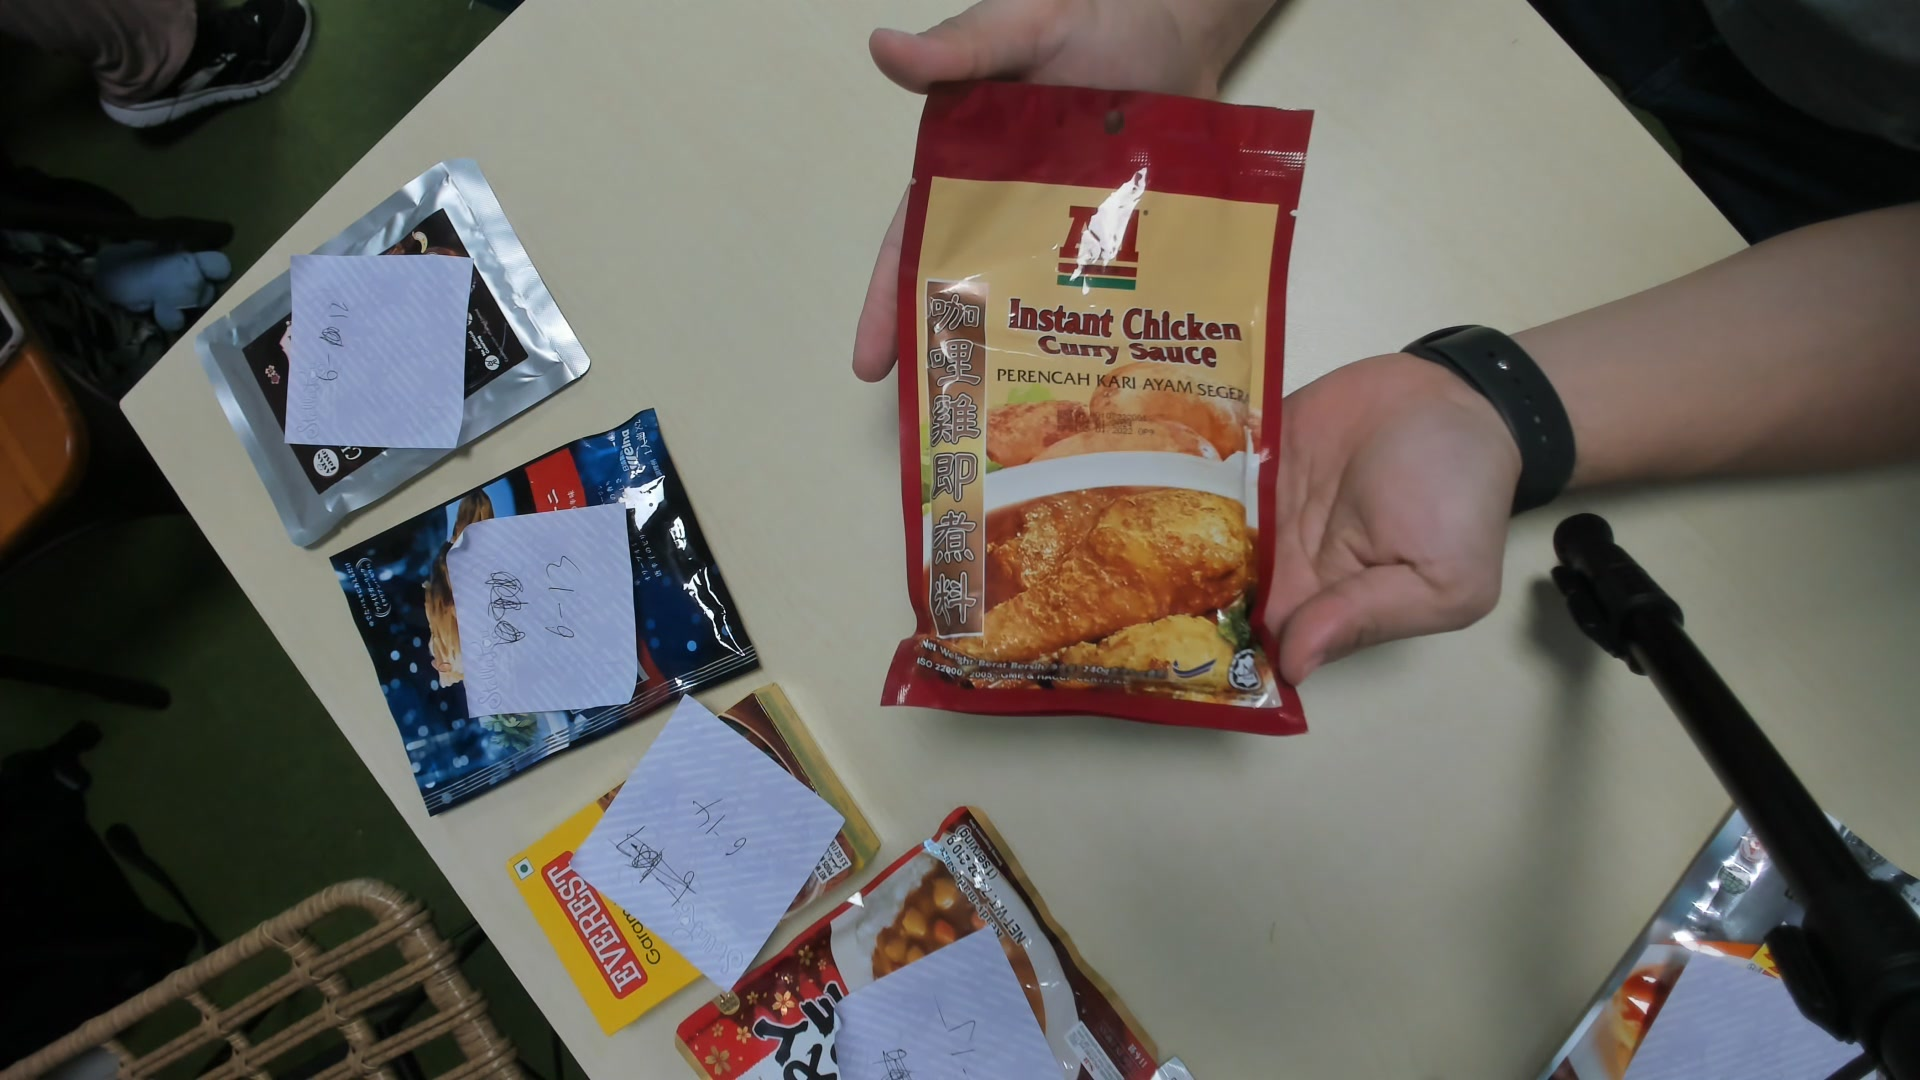CurryPastePowderSauce_200-299g_Halal_NonHealthy: (899, 84, 1308, 732)
